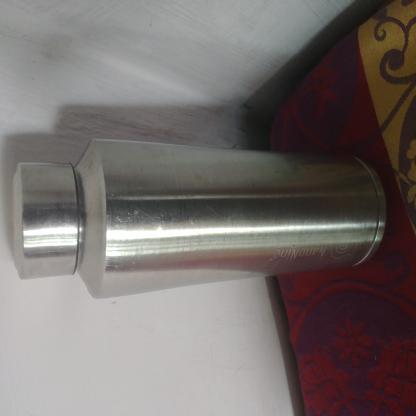bottle: (86, 11, 214, 416)
